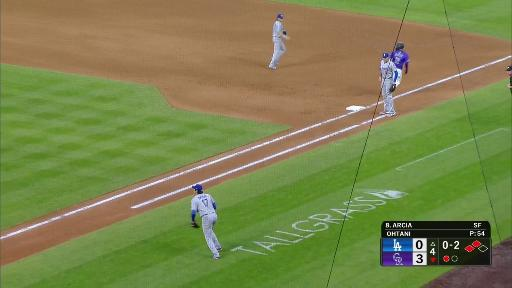pitcher: (189, 183, 227, 261)
